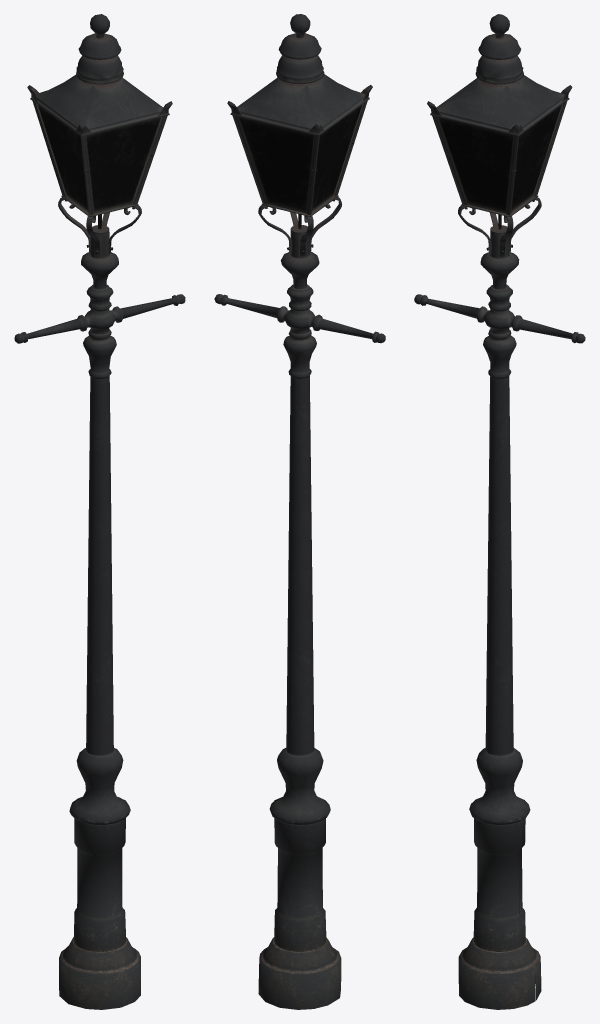
The model's file is street_lamp.glb.
3 renders of one model, left to right at view 1: azimuth 30°, elevation 25°; view 2: azimuth 150°, elevation 25°; view 3: azimuth 330°, elevation 25°, orthographic.
Parts seen in each view (by area): view 1: street_lamp; view 2: street_lamp; view 3: street_lamp.
Part boxes in pixels (x1=…): street_lamp: x1=14, y1=14, x2=185, y2=1009; street_lamp: x1=214, y1=14, x2=385, y2=1009; street_lamp: x1=414, y1=14, x2=585, y2=1009.
Size of the model in its own units: 0.7047 by 3.87 by 0.3839.
Materials: 3 (3 with a texture image).
